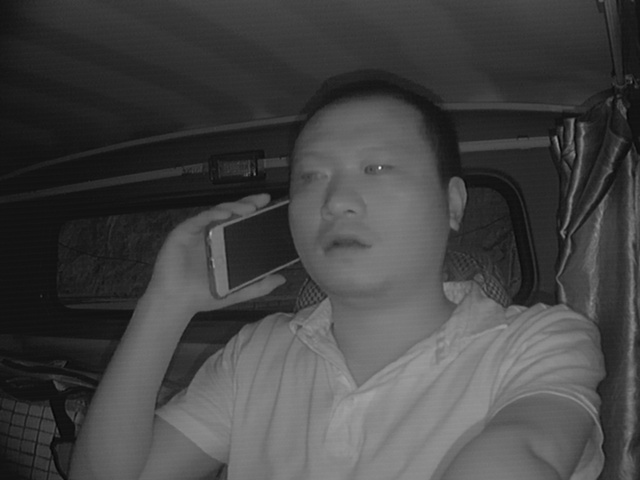hand: (162, 194, 281, 306)
